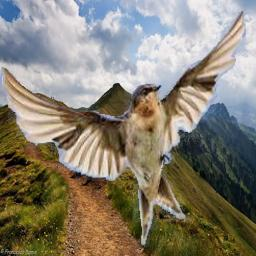Swallow: (0, 6, 246, 249)
